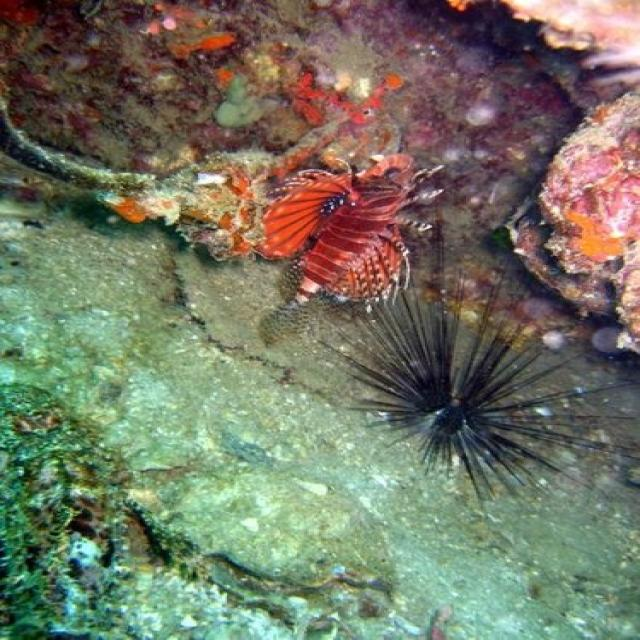Urchin: (324, 216, 640, 499)
